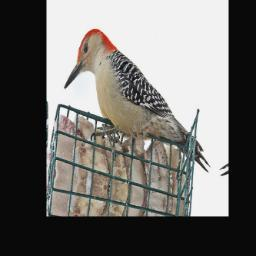Woodpecker: (58, 21, 222, 175)
